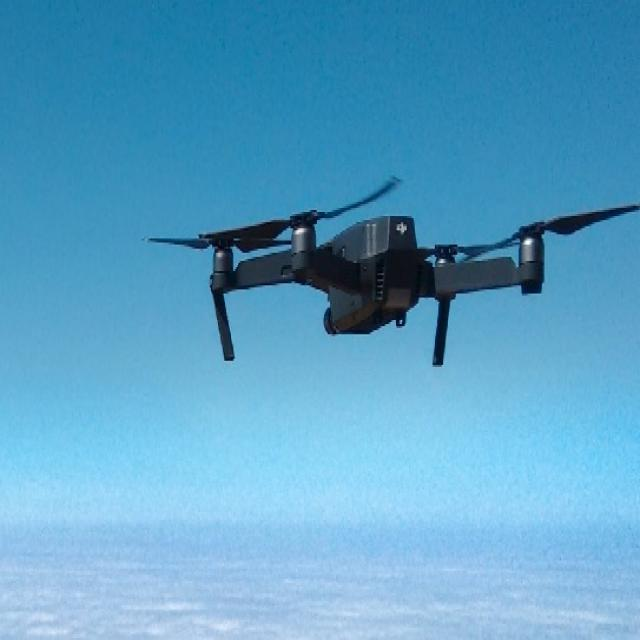drone: (145, 161, 640, 407)
